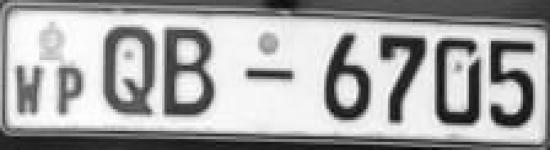-: (237, 64, 300, 84)
0: (430, 33, 488, 134)
5: (487, 34, 541, 134)
6: (316, 25, 375, 124)
7: (374, 28, 429, 132)
B: (160, 19, 219, 124)
P: (55, 60, 85, 120)
Q: (98, 20, 160, 122)
W: (14, 60, 44, 120)
